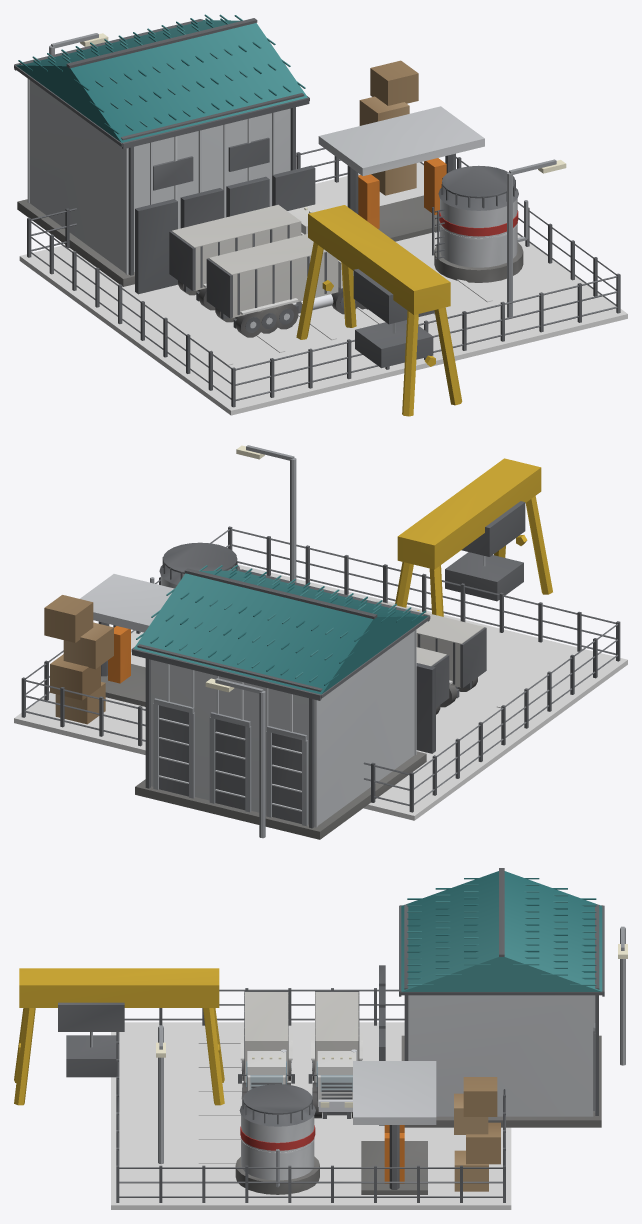
The model's file is Fleet_P3.fbx.
3 views of the same model, one above another, from view 1: azimuth 30°, elevation 25°; view 2: azimuth 150°, elevation 25°; view 3: azimuth 270°, elevation 25° (orthographic). The views are drawn at different scales.
Visible parts, largest first — view 1: Fleet.Garage, Fleet.Yard, Fleet.WashGantry, Fleet.FuelIsland, Fleet.Parked0, Fleet.Fence, Fleet.FuelTank, Fleet.Doors, Fleet.Parked1, Fleet.Crates, Fleet.Lamp1, Fleet.Bays; view 2: Fleet.Garage, Fleet.Yard, Fleet.WashGantry, Fleet.Fence, Fleet.Crates, Fleet.FuelIsland, Fleet.Parked0, Fleet.FuelTank, Fleet.Doors, Fleet.Lamp0, Fleet.Lamp1, Fleet.Parked1; view 3: Fleet.Garage, Fleet.Yard, Fleet.WashGantry, Fleet.FuelIsland, Fleet.FuelTank, Fleet.Fence, Fleet.Parked1, Fleet.Parked0, Fleet.Crates, Fleet.Lamp1, Fleet.Lamp0, Fleet.Bays (+1 smaller).
Part boxes in pixels (<box>): Fleet.Garage: <box>14,14,309,286</box>; Fleet.Yard: <box>19,162,627,415</box>; Fleet.WashGantry: <box>296,205,462,416</box>; Fleet.FuelIsland: <box>318,106,484,241</box>; Fleet.Parked0: <box>206,234,367,337</box>; Fleet.Fence: <box>27,147,620,407</box>; Fleet.FuelTank: <box>432,165,528,282</box>; Fleet.Doors: <box>135,165,315,294</box>; Fleet.Parked1: <box>169,203,327,310</box>; Fleet.Crates: <box>359,60,418,195</box>; Fleet.Lamp1: <box>507,159,566,317</box>; Fleet.Bays: <box>193,279,492,365</box>; Fleet.Garage: <box>131,565,430,839</box>; Fleet.Yard: <box>14,564,627,820</box>; Fleet.WashGantry: <box>395,458,552,616</box>; Fleet.Fence: <box>21,526,620,812</box>; Fleet.Crates: <box>44,595,113,724</box>; Fleet.FuelIsland: <box>80,574,174,706</box>; Fleet.Parked0: <box>375,600,486,707</box>; Fleet.FuelTank: <box>150,542,240,588</box>; Fleet.Doors: <box>416,663,435,753</box>; Fleet.Lamp0: <box>205,678,265,838</box>; Fleet.Lamp1: <box>236,445,296,582</box>; Fleet.Parked1: <box>416,647,449,714</box>; Fleet.Garage: <box>399,868,604,1127</box>; Fleet.Yard: <box>111,1022,511,1209</box>; Fleet.WashGantry: <box>14,968,224,1105</box>; Fleet.FuelIsland: <box>353,1061,436,1194</box>; Fleet.FuelTank: <box>235,1084,319,1194</box>; Fleet.Fence: <box>116,988,505,1202</box>; Fleet.Parked1: <box>308,991,362,1118</box>; Fleet.Parked0: <box>238,991,294,1105</box>; Fleet.Crates: <box>454,1077,500,1191</box>; Fleet.Lamp1: <box>156,1025,165,1164</box>; Fleet.Lamp0: <box>618,926,627,1065</box>; Fleet.Bays: <box>198,1040,241,1163</box>.
Bounding box in the file's own units: 2600 × 1183 × 3682.
